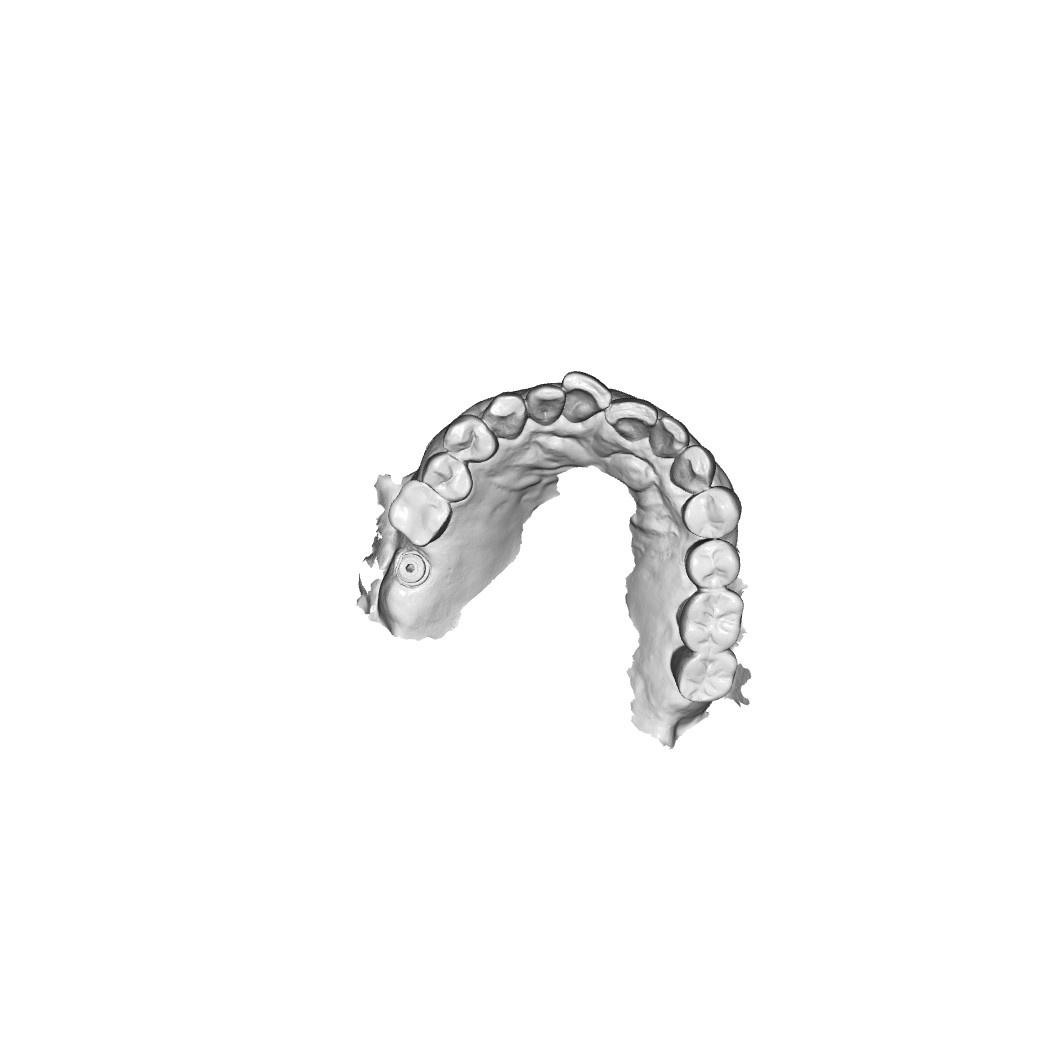canine: (669, 446, 713, 493), (484, 392, 526, 441)
implant: (390, 551, 432, 584)
incisor: (606, 393, 658, 442), (565, 372, 608, 422), (648, 416, 687, 459), (529, 383, 567, 424)
molar: (679, 591, 744, 651), (389, 481, 448, 545), (675, 647, 741, 704)
premolar: (438, 413, 492, 466), (685, 488, 737, 538), (689, 542, 740, 592), (425, 455, 474, 504)
